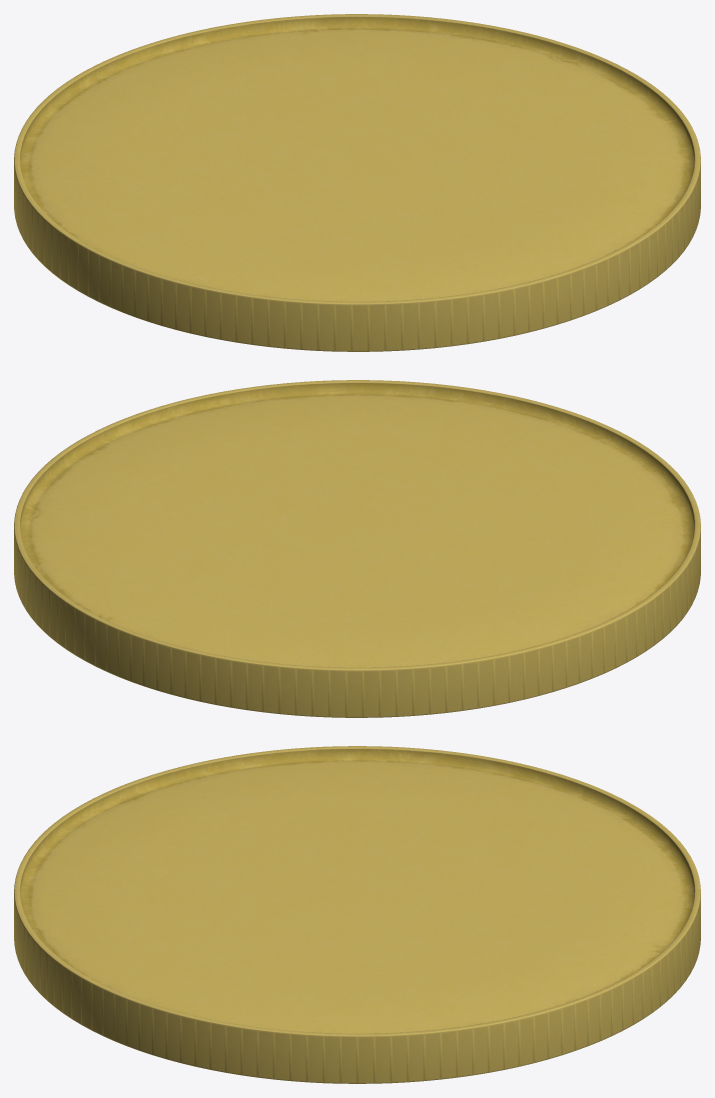
Rendered from coin.glb.
The picture shows the model from 3 angles, top to bottom: view 1: azimuth 30°, elevation 25°; view 2: azimuth 150°, elevation 25°; view 3: azimuth 270°, elevation 25°; orthographic projection.
Parts seen in each view (by area): view 1: coin 1_0; view 2: coin 1_0; view 3: coin 1_0.
Part boxes in pixels (left/top/right/bottom): coin 1_0: left=14, top=14, right=700, bottom=351; coin 1_0: left=14, top=380, right=700, bottom=717; coin 1_0: left=14, top=746, right=700, bottom=1083.
Size of the model in its own units: 2 by 0.155 by 2.
1 material, 1 textured.
